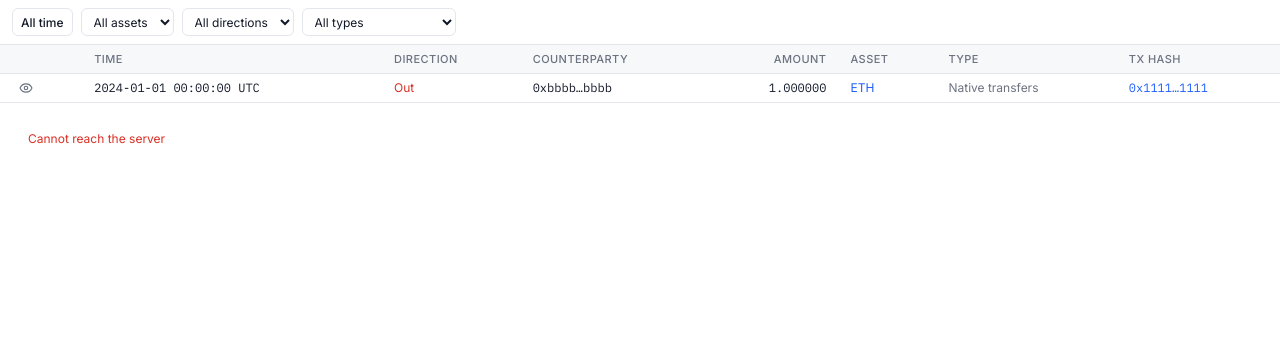
Scenario: pending shows fetching, then the method once ready
Click the row with test id "transfer-row": point(640, 88) [0,73,1279,102]
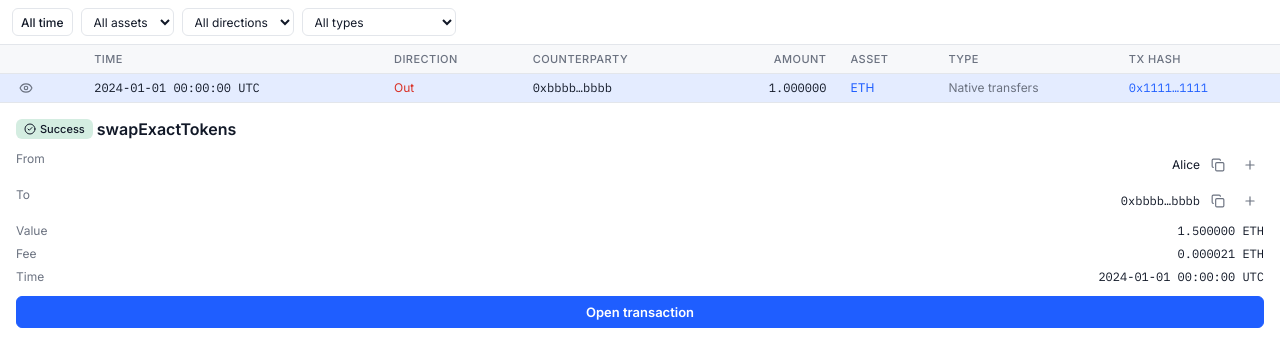
Expected: the text "Fetching" is shown, [16,118,1264,328]
Expected: the heading "Success swapExactTokens" is shown, [16,118,236,138]
